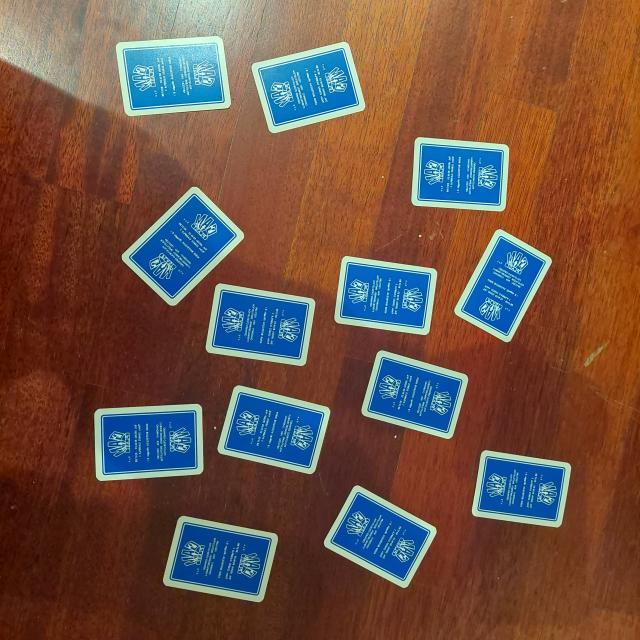card: (121, 184, 248, 308), (323, 481, 440, 592), (455, 226, 555, 342), (252, 39, 367, 134), (161, 514, 279, 604), (217, 385, 331, 474), (117, 31, 232, 117), (361, 351, 473, 439), (206, 282, 317, 366), (333, 256, 440, 335), (471, 449, 572, 530), (412, 137, 509, 214)
